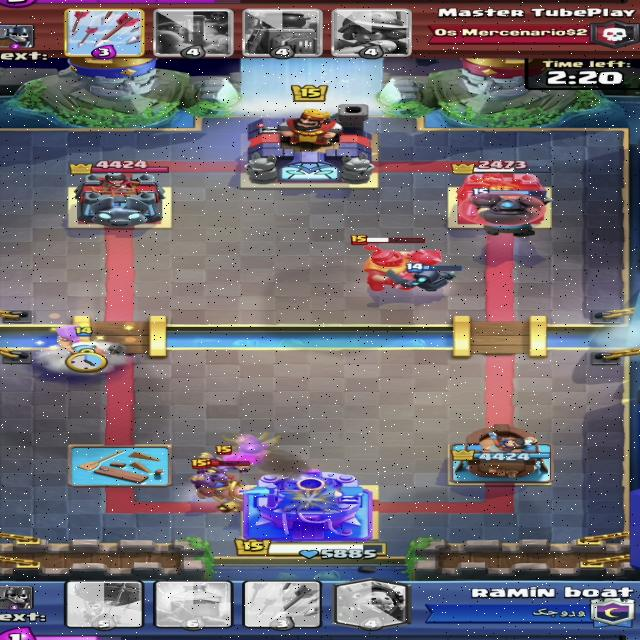Enemy-Hog: (191, 458, 269, 512)
Enemy-MegaKnight: (349, 234, 443, 294)
Enemy-Minion: (195, 446, 252, 476), (186, 458, 226, 492)
Player-Lumberjack: (56, 320, 125, 365)
Player-MegaKnight: (467, 188, 555, 238)
Player-MiniPEKKA: (395, 263, 464, 293)
